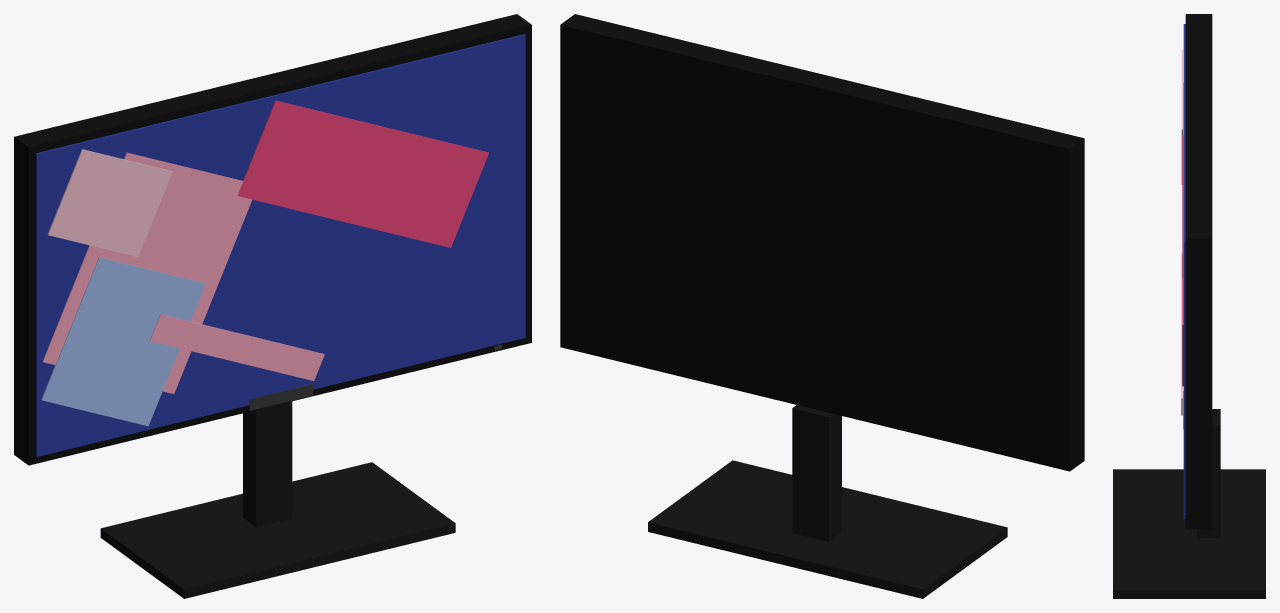
The model's file is 20-monitor-polytron-swirl.glb.
3 renders of one model, left to right at view 1: azimuth 30°, elevation 25°; view 2: azimuth 150°, elevation 25°; view 3: azimuth 270°, elevation 25°, orthographic. The views are drawn at different scales.
Size of the model in its own units: 0.556 by 0.476 by 0.16.
